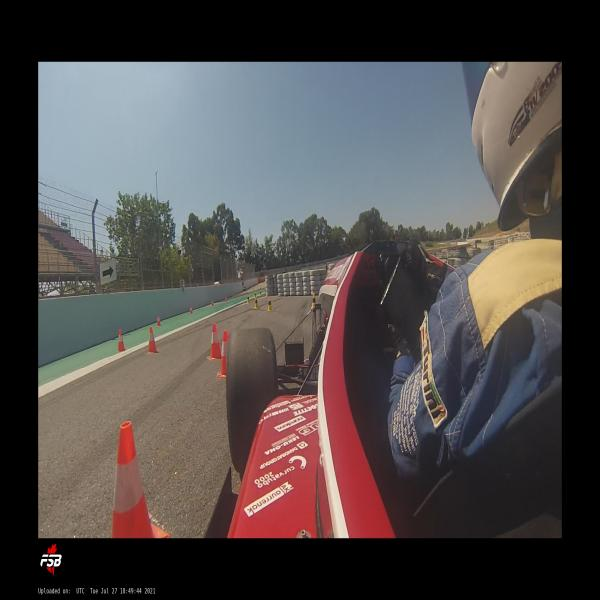orange_cone: (112, 421, 169, 538), (217, 331, 229, 378), (208, 324, 222, 360), (148, 327, 158, 353), (118, 329, 126, 352), (157, 315, 161, 326), (190, 306, 193, 314), (212, 301, 214, 306), (225, 296, 227, 301)
yellow_cone: (268, 297, 272, 311), (312, 294, 316, 307), (254, 297, 258, 309), (247, 295, 249, 304), (255, 292, 256, 297), (260, 291, 261, 296)
